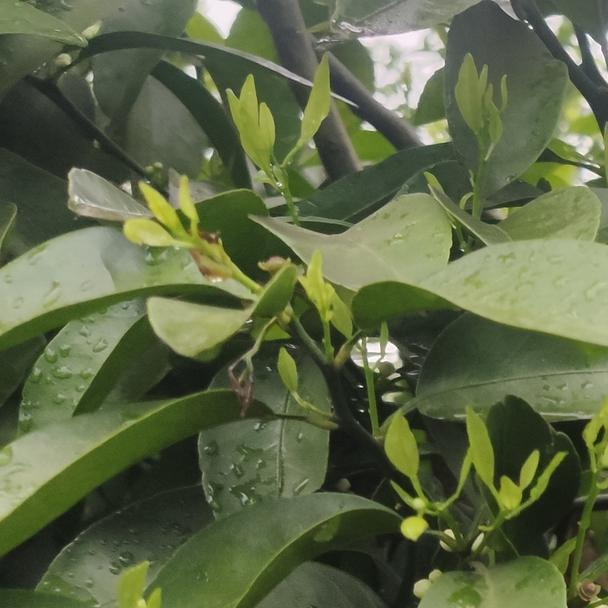shoot: (468, 418, 573, 563), (377, 423, 471, 555), (127, 173, 222, 260), (227, 81, 289, 197), (460, 59, 514, 170)
